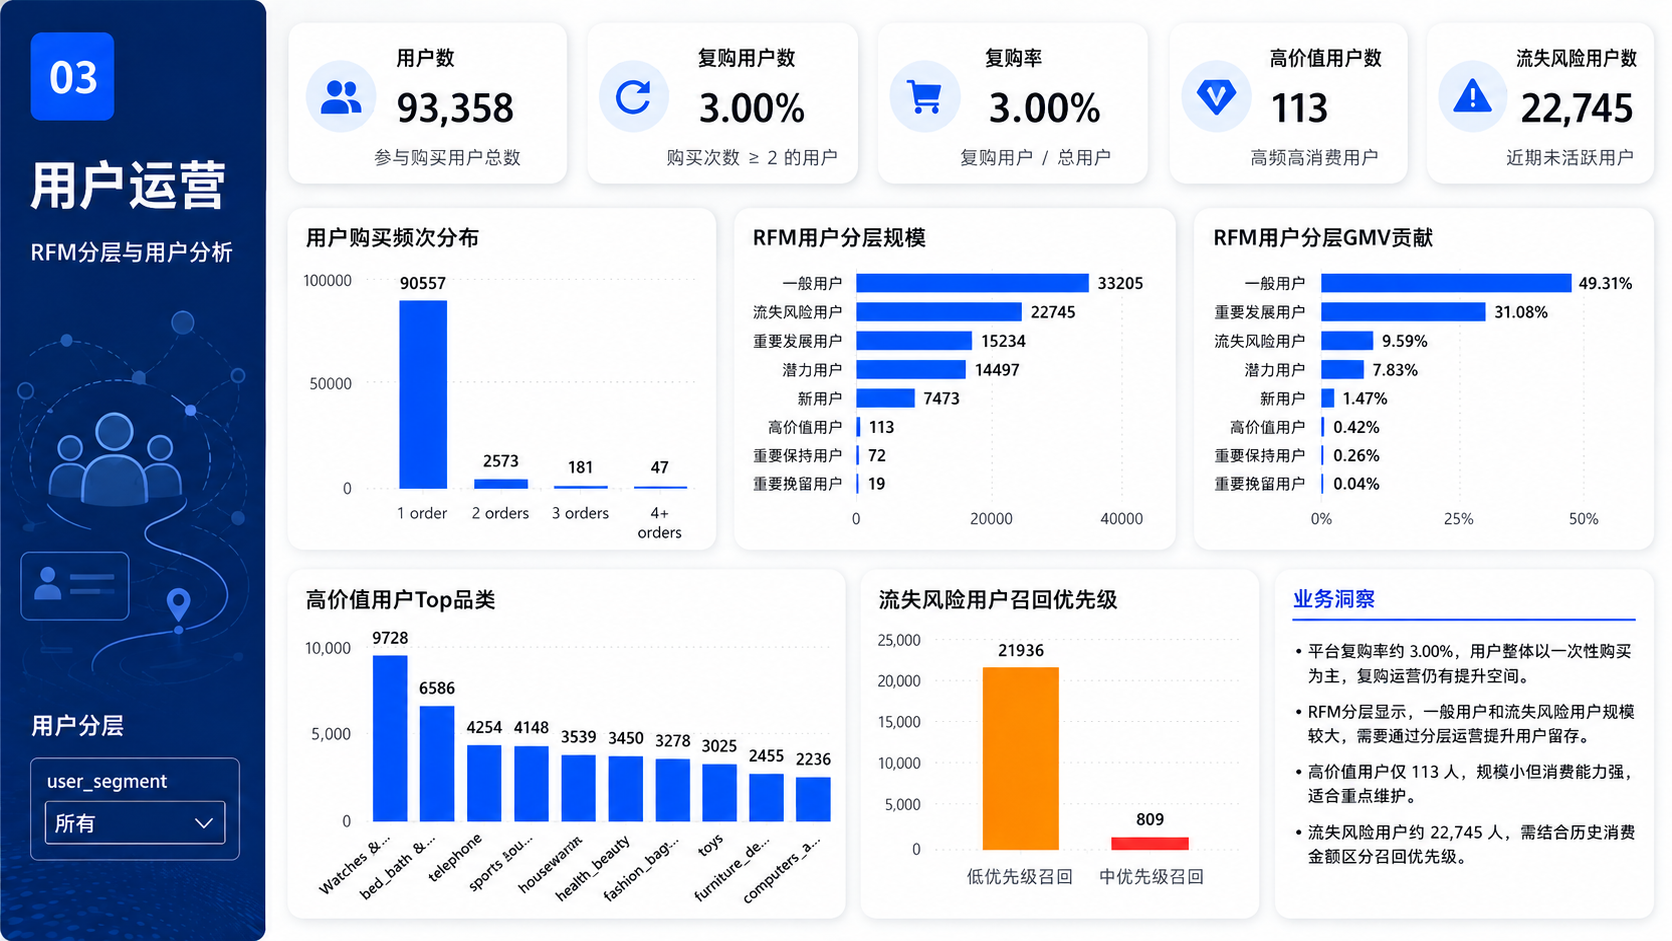

The dashboard page shown, as its layout file describes it:
{"tool":"powerbi","page":{"name":"RFM 用户分层与用户运营分析","canvas":[1280,720],"ordinal":2},"visuals":[{"type":"shape","box":[0,0,210.3,720.2],"z":0},{"type":"textbox","box":[18,18,58,58.9],"z":1000},{"type":"textbox","box":[18.3,91.7,167.5,80.7],"z":2000},{"type":"textbox","box":[19.6,160.2,181,34.2],"z":3000},{"type":"slicer","fields":{"Values":["olist_ecommerce ads_rfm_user_segment.user_segment"]},"box":[18,600,165,70],"z":4000},{"type":"textbox","box":[18.3,560.1,160.2,30.6],"z":5000},{"type":"cardVisual","title":"复购用户数","fields":{"Data":["ads_business_overview.复购用户数显示"]},"box":[451.5,30.9,187.9,129],"z":6000},{"type":"cardVisual","title":"高价值用户数","fields":{"Data":["ads_business_overview.高价值用户数显示"]},"box":[873.6,30.9,182.3,129],"z":7000},{"type":"cardVisual","title":"复购率","fields":{"Data":["ads_business_overview.复购率显示"]},"box":[663.3,30.9,182.3,129],"z":8000},{"type":"cardVisual","title":"用户数","fields":{"Data":["ads_business_overview.用户数显示"]},"box":[230.3,30.9,199.4,128.9],"z":9000},{"type":"cardVisual","title":"流失风险用户数","fields":{"Data":["ads_business_overview.流失风险用户数显示"]},"box":[1084,30.9,182.3,129],"z":10000},{"type":"textbox","box":[451.5,122,187.9,37.9],"z":11000},{"type":"textbox","box":[663.3,122,182.3,54.7],"z":12000},{"type":"textbox","box":[873.6,122,182.3,64.5],"z":13000},{"type":"textbox","box":[1084,122,182.3,64.5],"z":14000},{"type":"textbox","box":[230,122,199.1,50.5],"z":15000},{"type":"clusteredColumnChart","title":"用户购买频次分布","fields":{"Category":["ads_user_purchase_frequency.purchase_frequency_group"],"Y":["Sum(ads_user_purchase_frequency.user_count)"]},"box":[230.3,171.9,324.8,247.5],"z":15001},{"type":"clusteredBarChart","title":"RFM用户分层规模","fields":{"Category":["ads_rfm_user_segment.user_segment"],"Y":["Sum(ads_rfm_user_segment.user_count)"]},"box":[591.2,171.9,324.8,247.5],"z":15002},{"type":"clusteredBarChart","title":"RFM用户分层GMV贡献","fields":{"Category":["ads_rfm_user_segment.user_segment"],"Y":["ads_user_purchase_frequency.RFM_GMV贡献率"]},"box":[934.9,171.9,324.8,247.5],"z":15003},{"type":"clusteredColumnChart","title":"高价值用户Top品类","fields":{"Category":["ads_high_value_user_category.category_name"],"Y":["Sum(ads_high_value_user_category.total_gmv)"]},"box":[230.3,419.3,433.1,300.8],"z":15004},{"type":"clusteredColumnChart","title":"流失风险用户召回优先级","fields":{"Category":["ads_at_risk_user_priority_summary.recall_priority"],"Y":["Sum(ads_at_risk_user_priority_summary.user_count)"]},"box":[677.3,422.1,377.2,297.3],"z":15005},{"type":"textbox","box":[1055.2,419.3,204.5,297.3],"z":15006}]}

Visuals, with their boxes in screenshot pixels (x1, y1, x2, y2), scaled from the page's 1280x720 canvas onto the 1672x941 screenshot:
shape: select_region(0, 0, 275, 940)
textbox: select_region(24, 24, 99, 101)
textbox: select_region(24, 120, 243, 225)
textbox: select_region(26, 209, 262, 254)
slicer - olist_ecommerce ads_rfm_user_segment.user_segment: select_region(24, 784, 239, 876)
textbox: select_region(24, 732, 233, 772)
"复购用户数" cardVisual: select_region(590, 40, 835, 209)
"高价值用户数" cardVisual: select_region(1141, 40, 1379, 209)
"复购率" cardVisual: select_region(866, 40, 1105, 209)
"用户数" cardVisual: select_region(301, 40, 561, 209)
"流失风险用户数" cardVisual: select_region(1416, 40, 1654, 209)
textbox: select_region(590, 159, 835, 209)
textbox: select_region(866, 159, 1105, 231)
textbox: select_region(1141, 159, 1379, 244)
textbox: select_region(1416, 159, 1654, 244)
textbox: select_region(300, 159, 561, 225)
"用户购买频次分布" clusteredColumnChart: select_region(301, 225, 725, 548)
"RFM用户分层规模" clusteredBarChart: select_region(772, 225, 1197, 548)
"RFM用户分层GMV贡献" clusteredBarChart: select_region(1221, 225, 1645, 548)
"高价值用户Top品类" clusteredColumnChart: select_region(301, 548, 867, 940)
"流失风险用户召回优先级" clusteredColumnChart: select_region(885, 552, 1377, 940)
textbox: select_region(1378, 548, 1645, 937)
